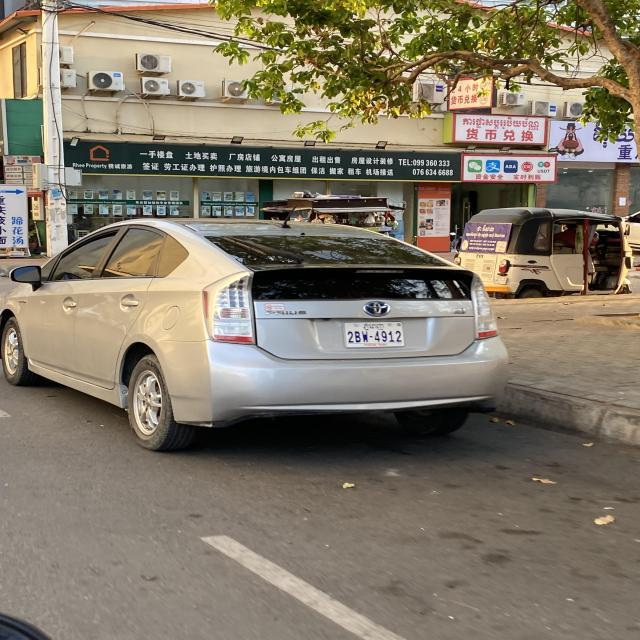Phnom_Penh: (360, 323, 386, 331)
